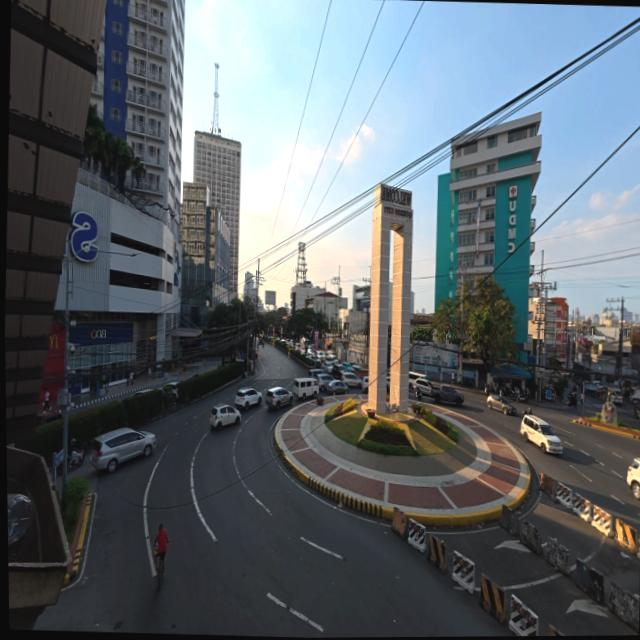car: (90, 427, 155, 472), (209, 404, 239, 429), (265, 387, 292, 410), (234, 388, 261, 410), (486, 394, 514, 414), (341, 372, 361, 388), (414, 378, 431, 396), (327, 381, 347, 395), (318, 374, 333, 392), (162, 382, 177, 399), (132, 388, 153, 397), (332, 365, 344, 380), (350, 364, 363, 376), (321, 361, 333, 374), (361, 375, 369, 391), (338, 362, 352, 371), (385, 375, 390, 391), (254, 349, 258, 357)
motorcycle: (67, 440, 83, 469), (515, 389, 527, 402), (568, 393, 576, 407), (415, 387, 421, 401)
trucks: (430, 385, 463, 406)
vans: (520, 415, 561, 454), (292, 376, 318, 400), (626, 458, 639, 499), (408, 371, 425, 389), (607, 389, 622, 404), (309, 368, 324, 378)
